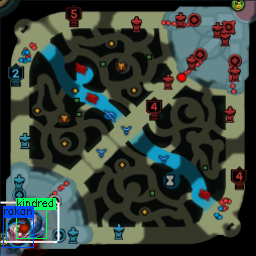kindred: (18, 212, 41, 234)
rakan: (6, 224, 29, 246)
sylas: (7, 213, 29, 237)
